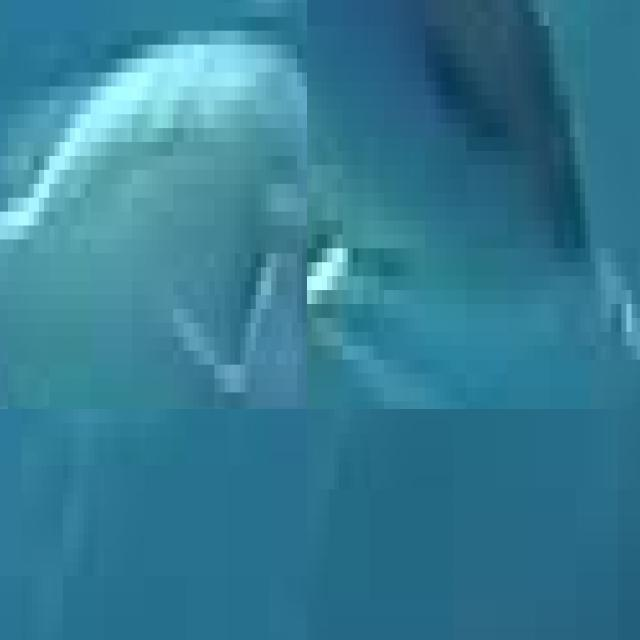fish: (0, 3, 307, 409)
